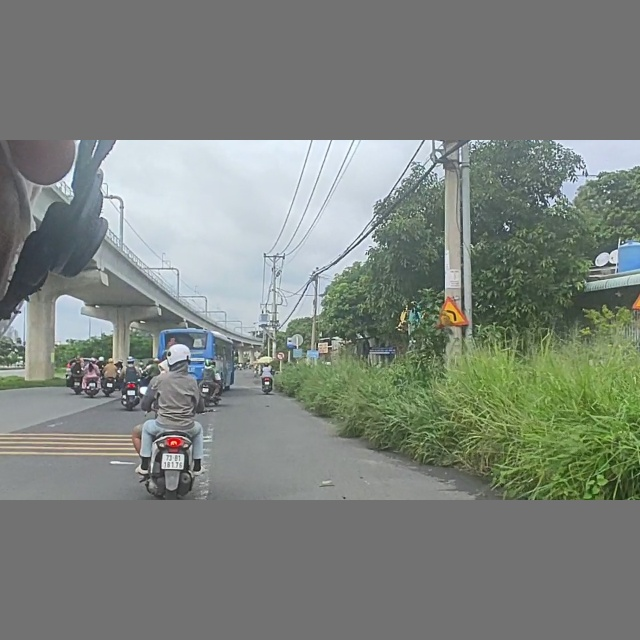I.434a: (287, 337, 297, 348)
P.123a: (276, 350, 287, 359)
W.201a: (433, 296, 471, 326)
